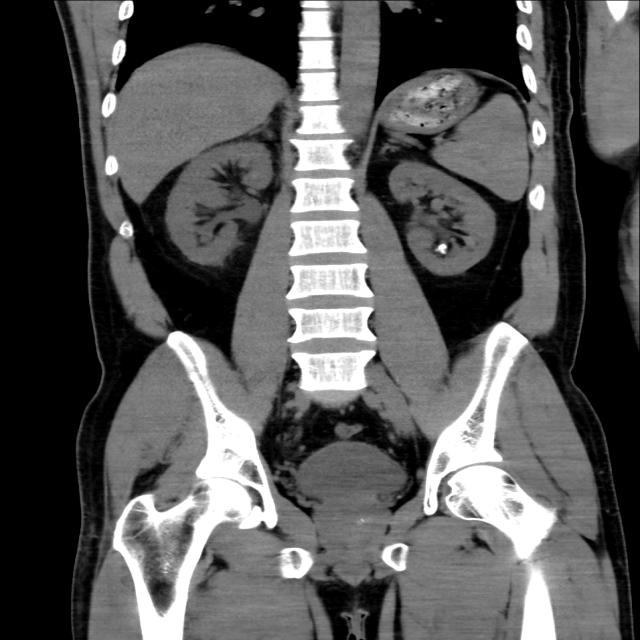kidneystone: (433, 244, 447, 256)
